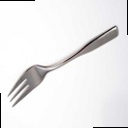Fork: (6, 24, 123, 108)
